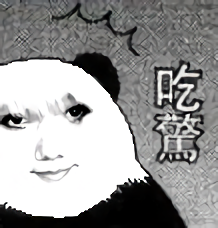dragon: (1, 94, 94, 185)
